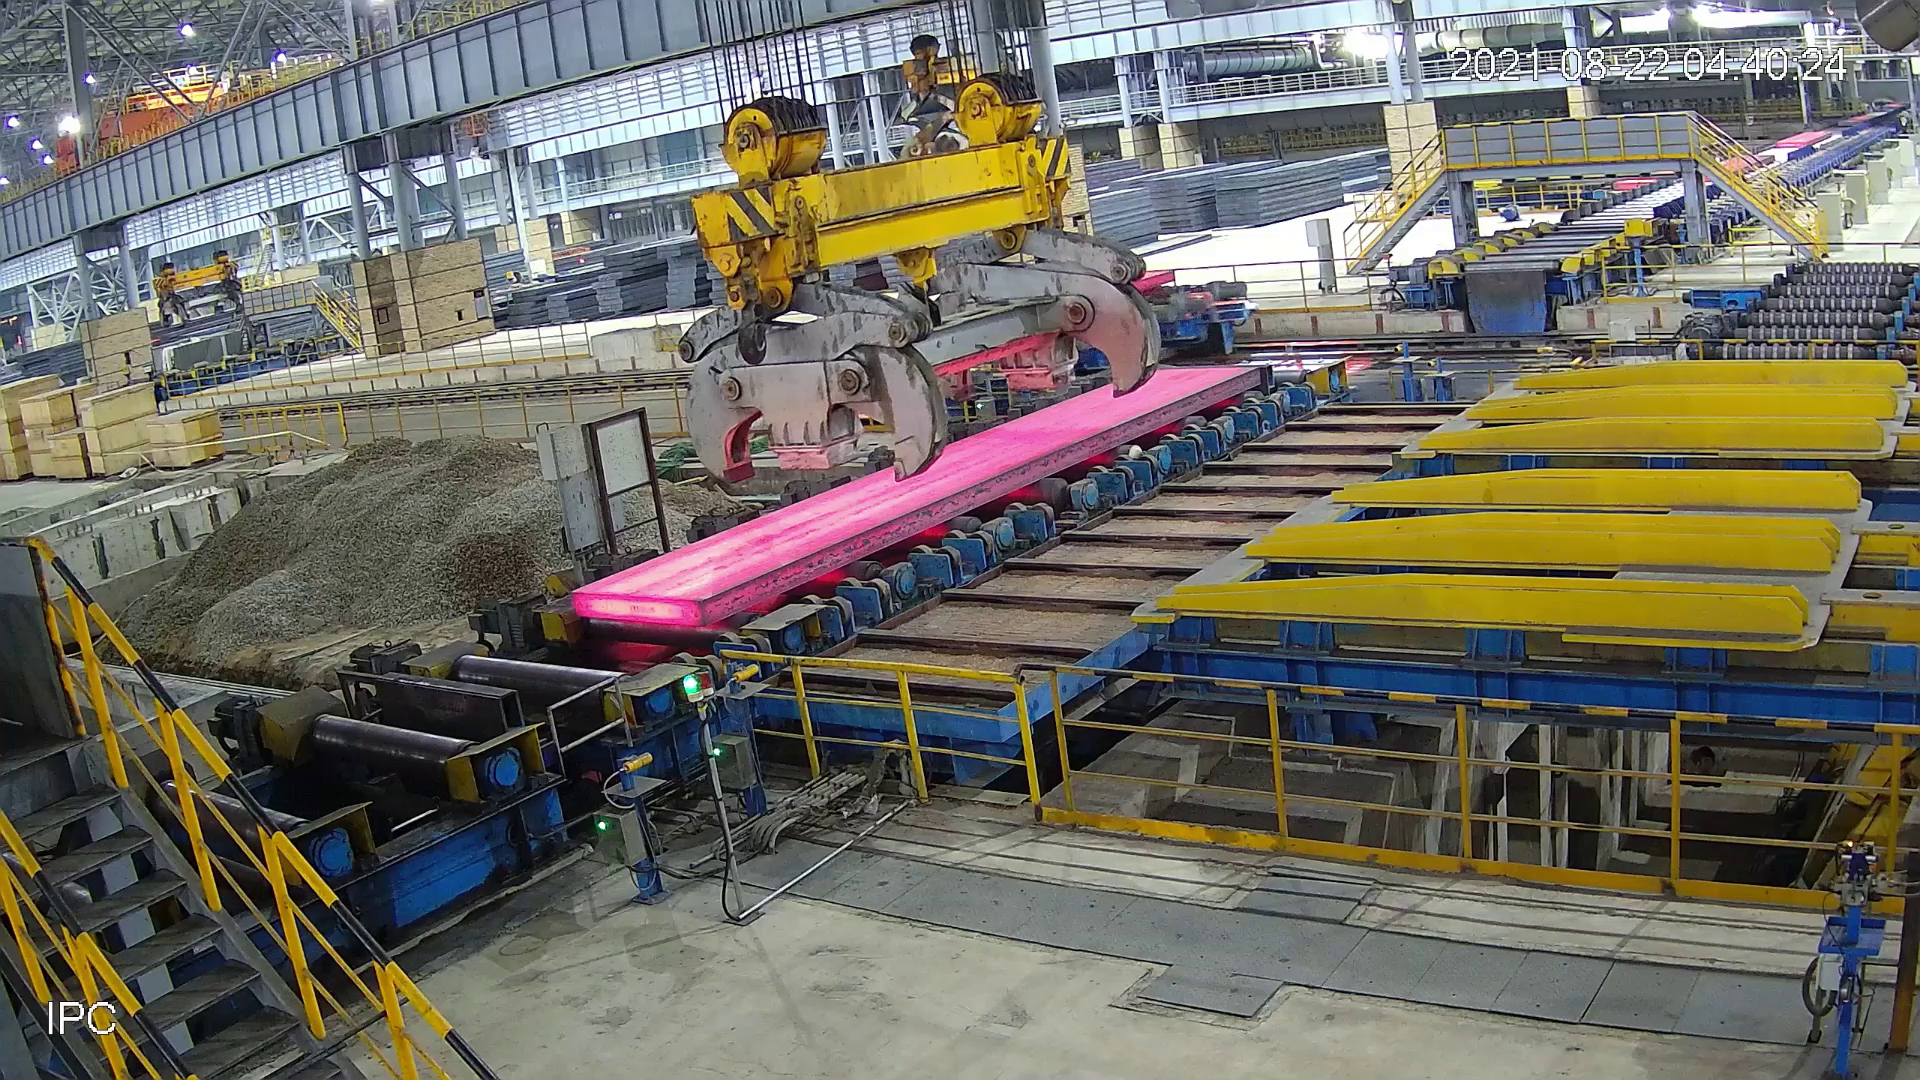crane: (669, 70, 1170, 487)
slab: (568, 363, 1261, 622)
